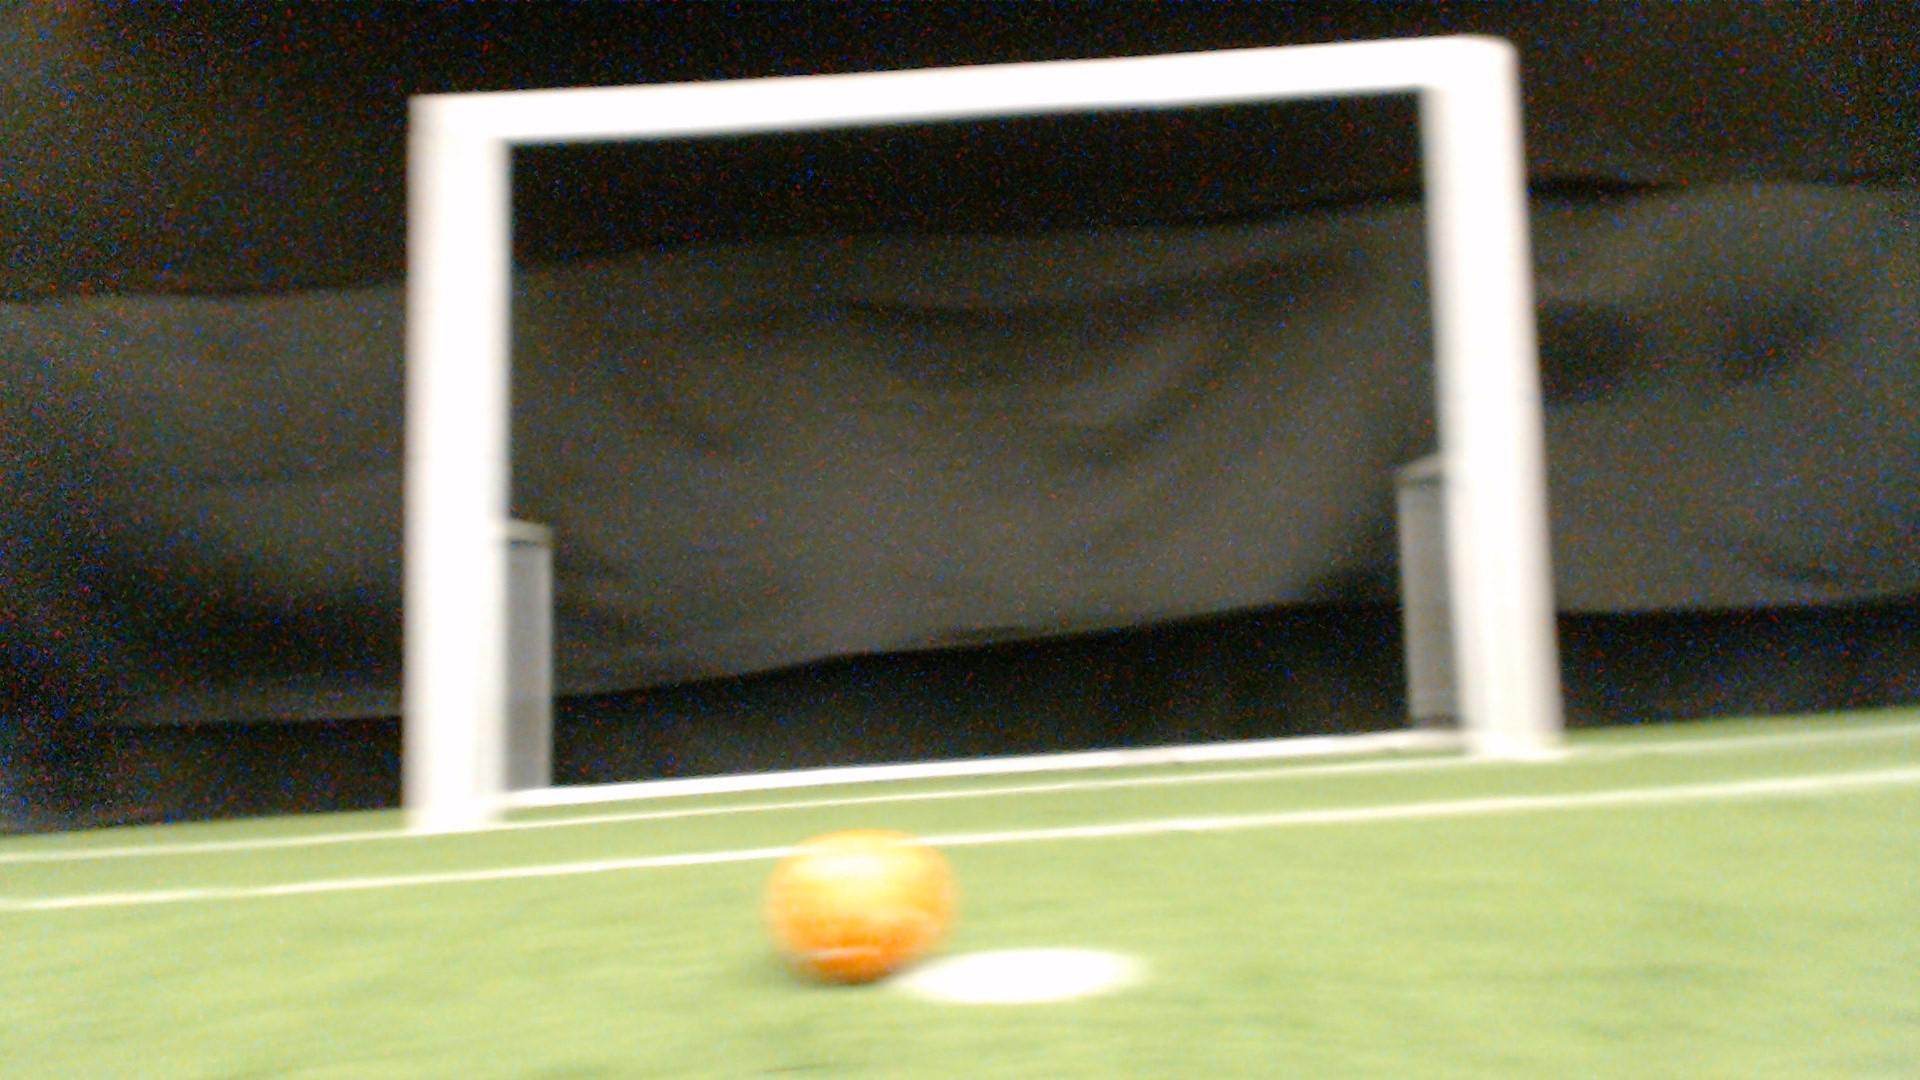bola: (735, 808, 981, 1007)
